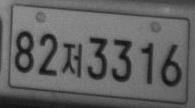1: (138, 42, 158, 84)
2: (38, 32, 58, 76)
3: (111, 38, 133, 82), (87, 36, 107, 80)
6: (160, 44, 183, 86)
8: (13, 29, 34, 72)
저: (61, 43, 83, 77)
